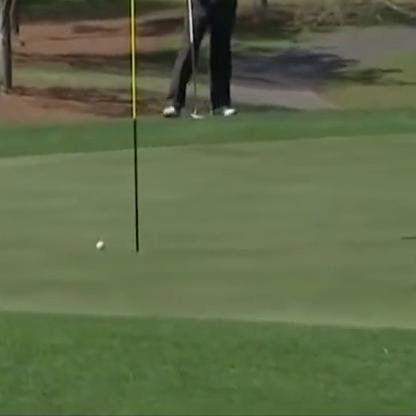golfball: (96, 238, 103, 248)
